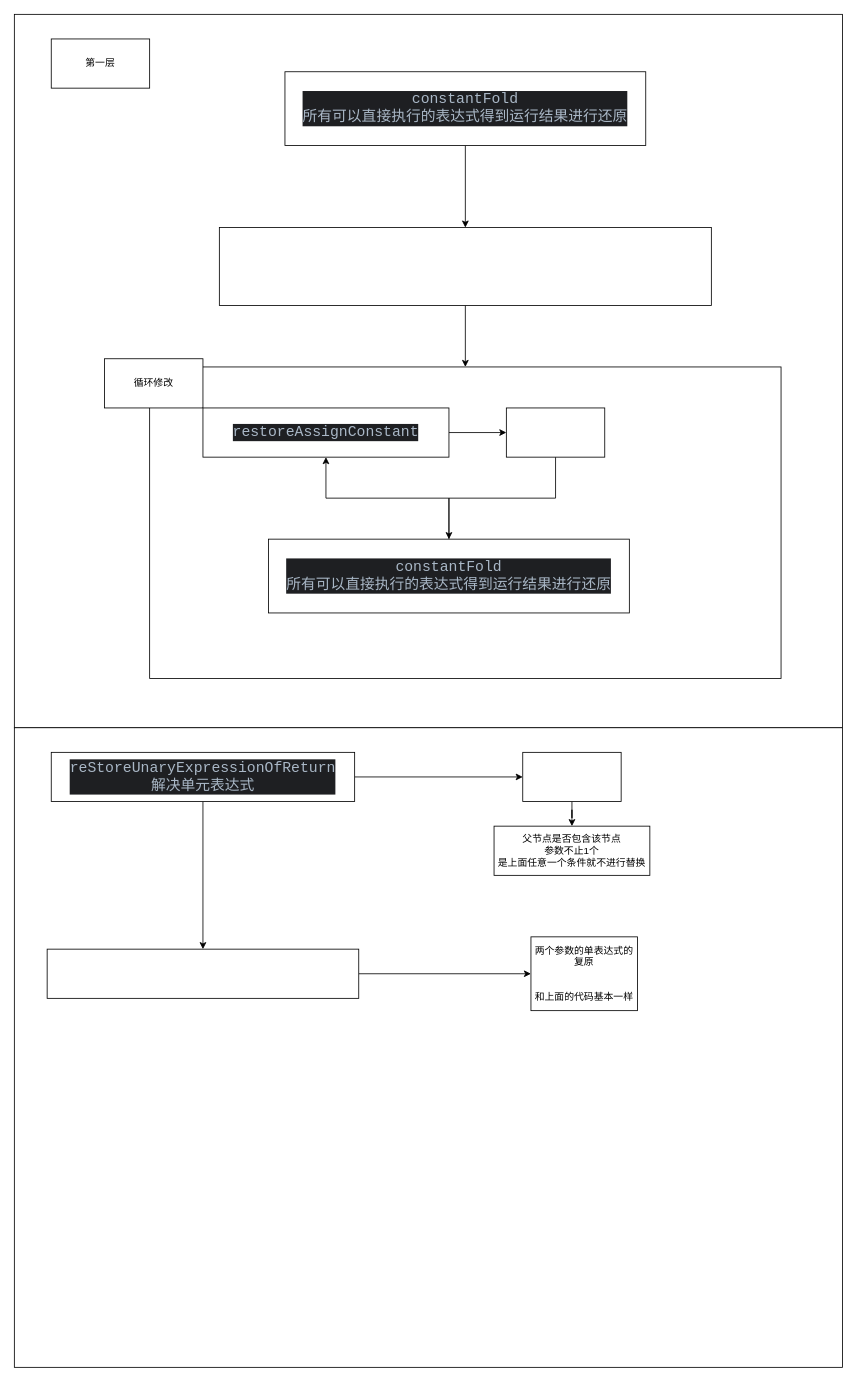
The diagram is 857 pixels wide and 1382 high, and some of its shapes have lost their labels. Each missing label, with the box of its shape:
1.内容是常量的变量 2.用常量替换这些变量的调用: (506, 407, 605, 457)
reStoreBinaryExpressionOfReturn: (46, 948, 359, 998)
restoreSpFunctionDeclaration 函数如果只有一行，那把他提取出来，并且调用这个函数的地方进行替换: (219, 227, 711, 305)
要求参数和表达式数量都是1，拥有return,并且表达式是单元表达式: (522, 752, 621, 802)
